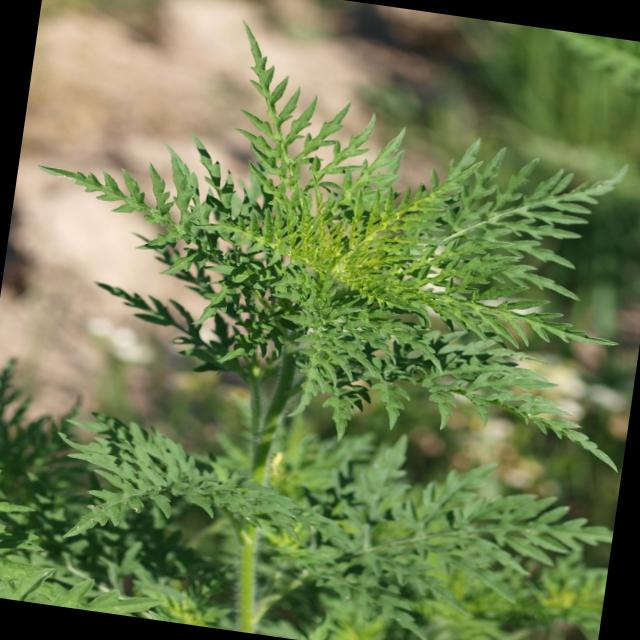ambrosia: (55, 31, 640, 442)
